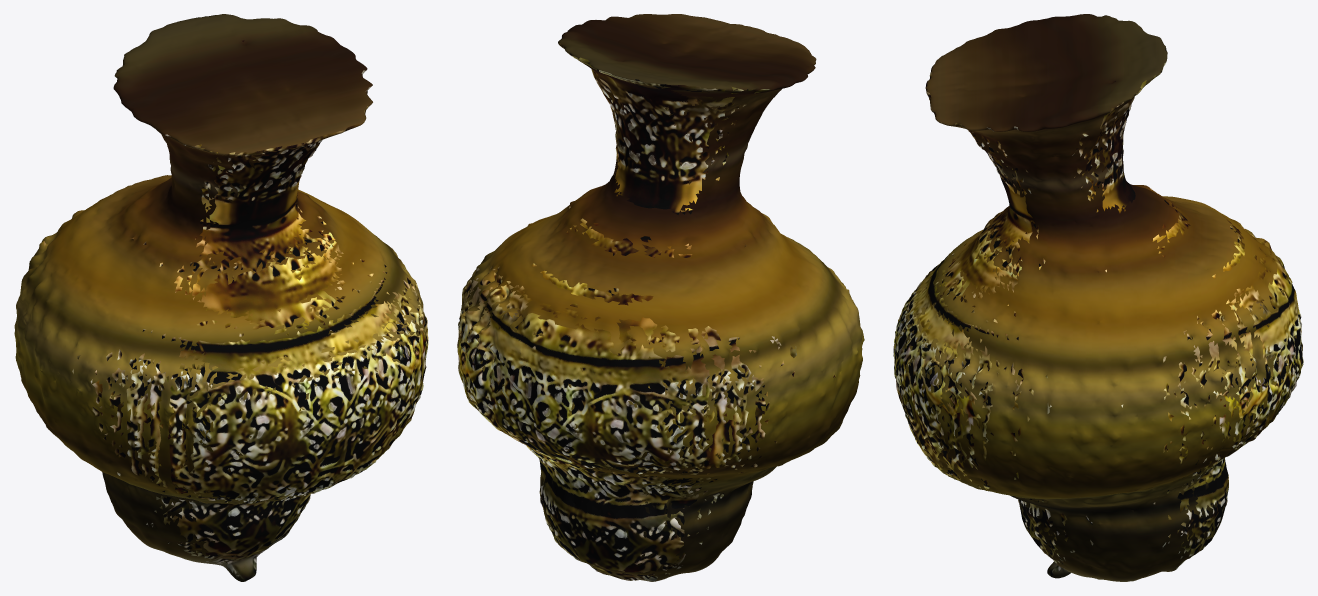
The model's file is kfl-2285.glb.
The picture shows the model from 3 angles, left to right: view 1: azimuth 30°, elevation 25°; view 2: azimuth 150°, elevation 25°; view 3: azimuth 270°, elevation 25°; orthographic projection.
Visible parts, largest first — view 1: kfl-2285; view 2: kfl-2285; view 3: kfl-2285.
Part boxes in pixels (<box>): kfl-2285: <box>14,14,428,581</box>; kfl-2285: <box>457,14,864,581</box>; kfl-2285: <box>893,14,1303,581</box>.
Bounding box in the file's own units: 0.7137 × 0.9936 × 0.7082.
Materials: 4 (4 with a texture image).
